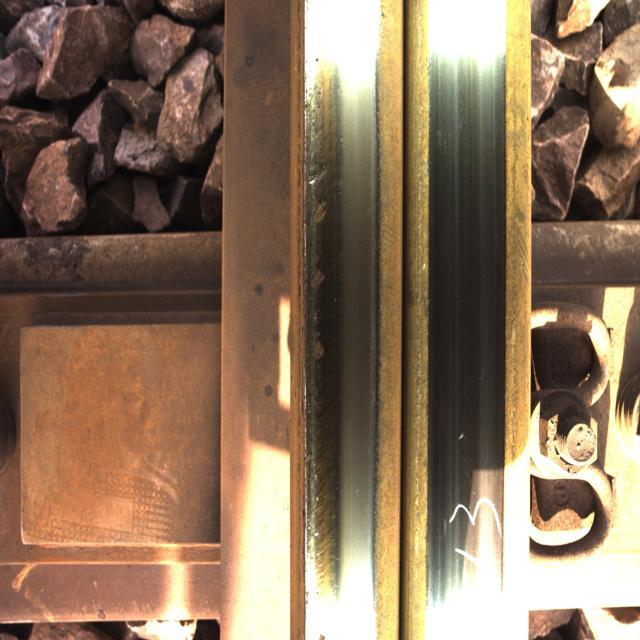break: (432, 52, 510, 598)
scar: (300, 41, 349, 600)
